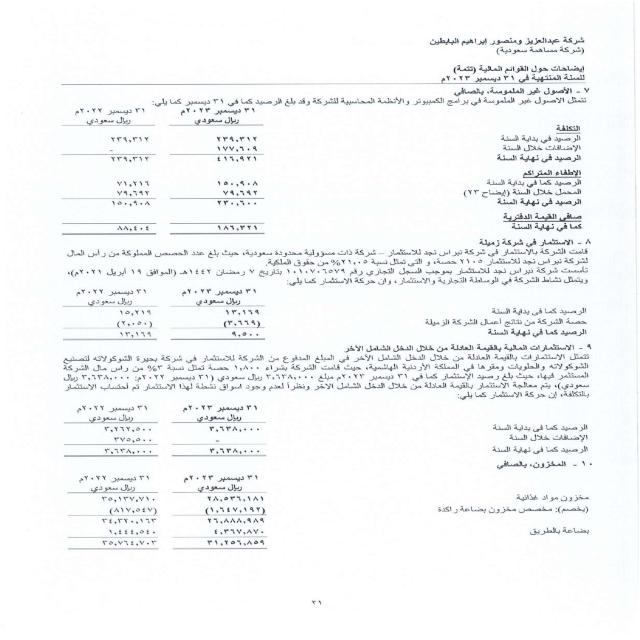notes: (432, 57, 599, 72)
table: (45, 401, 274, 570), (52, 109, 269, 242), (42, 286, 268, 346)
